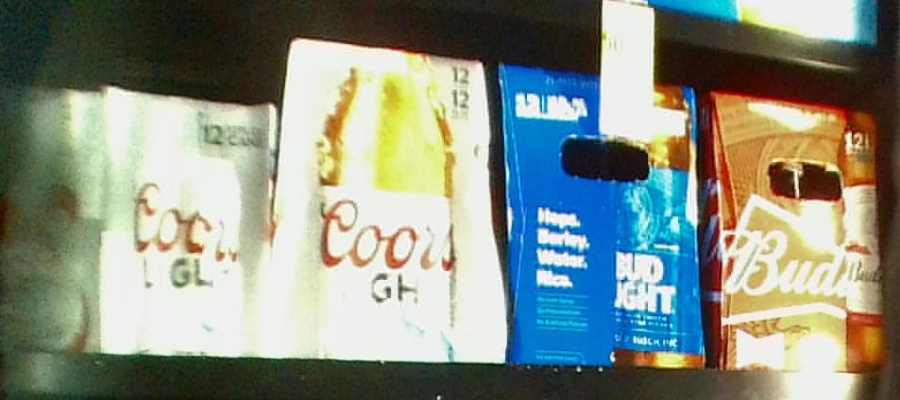bottle: (281, 34, 500, 362), (496, 75, 704, 363), (709, 83, 890, 368), (96, 73, 273, 354)
